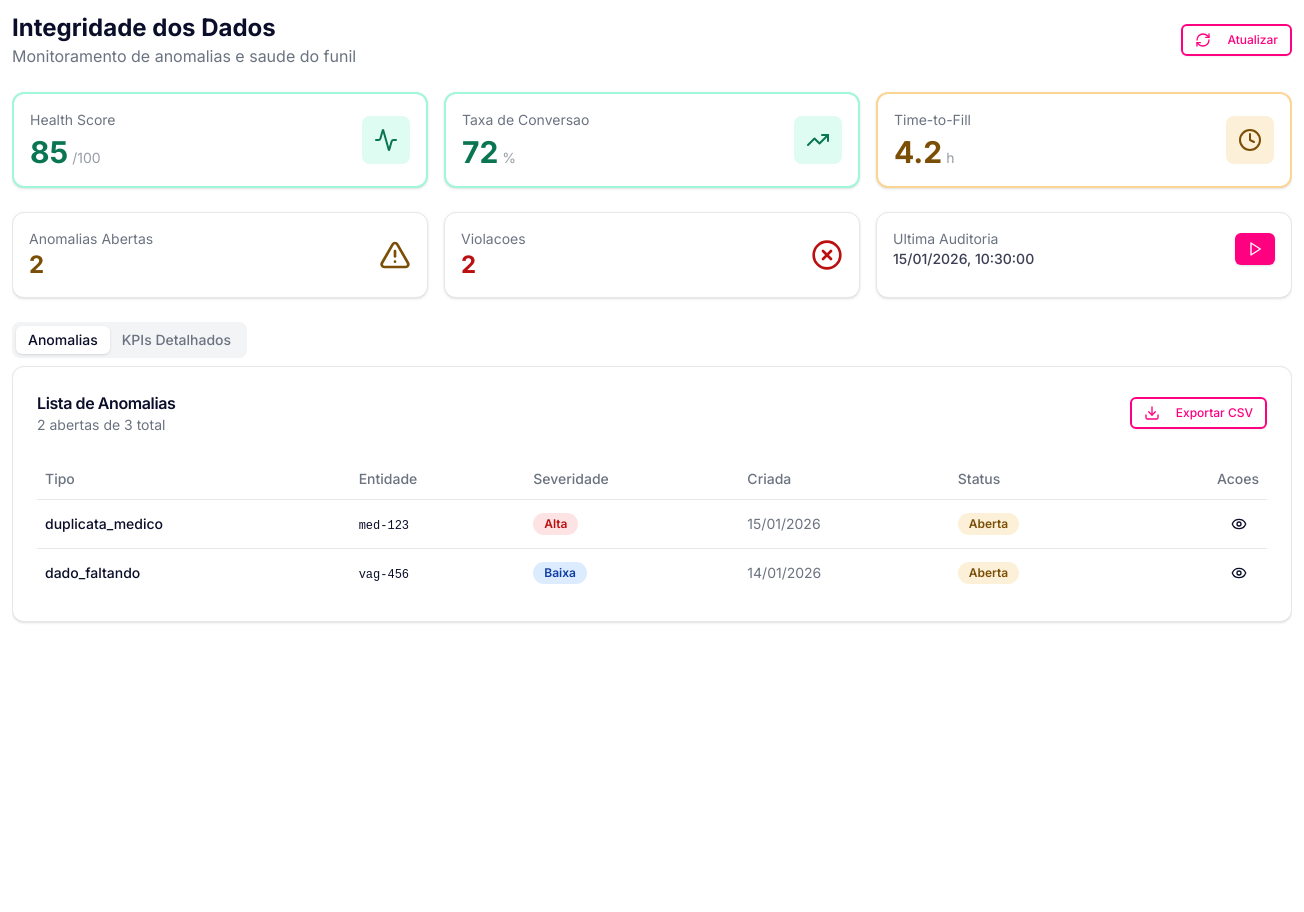
Test: IntegridadePageContent › Tab Switching › shows recommendations in KPIs tab
Click the tab "KPIs Detalhados": [176, 340] box [110,326,243,354]
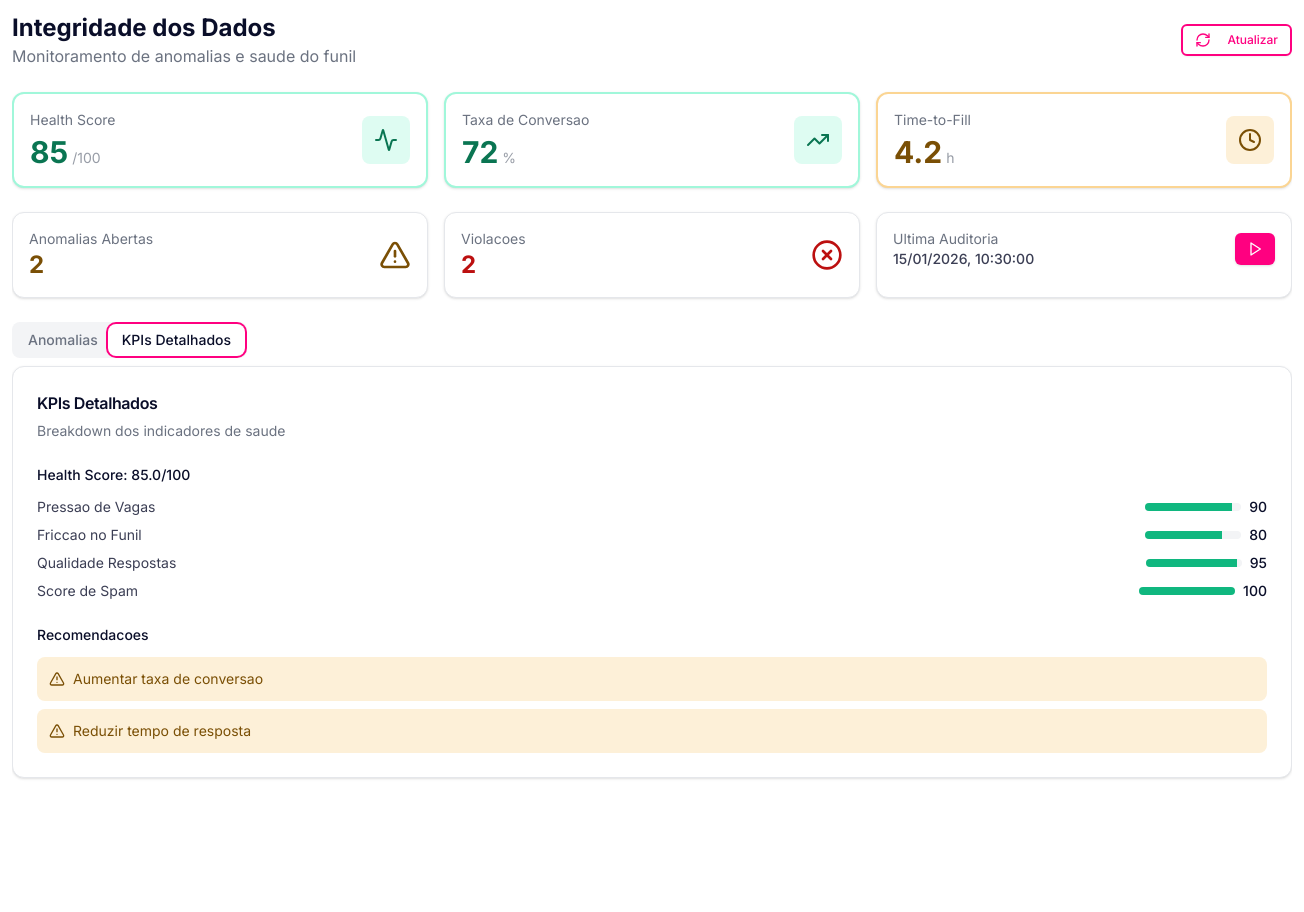
Expected: the text "Aumentar taxa de conversao" is shown, [73,669,263,689]
Expected: the text "Reduzir tempo de resposta" is shown, [73,721,251,741]
